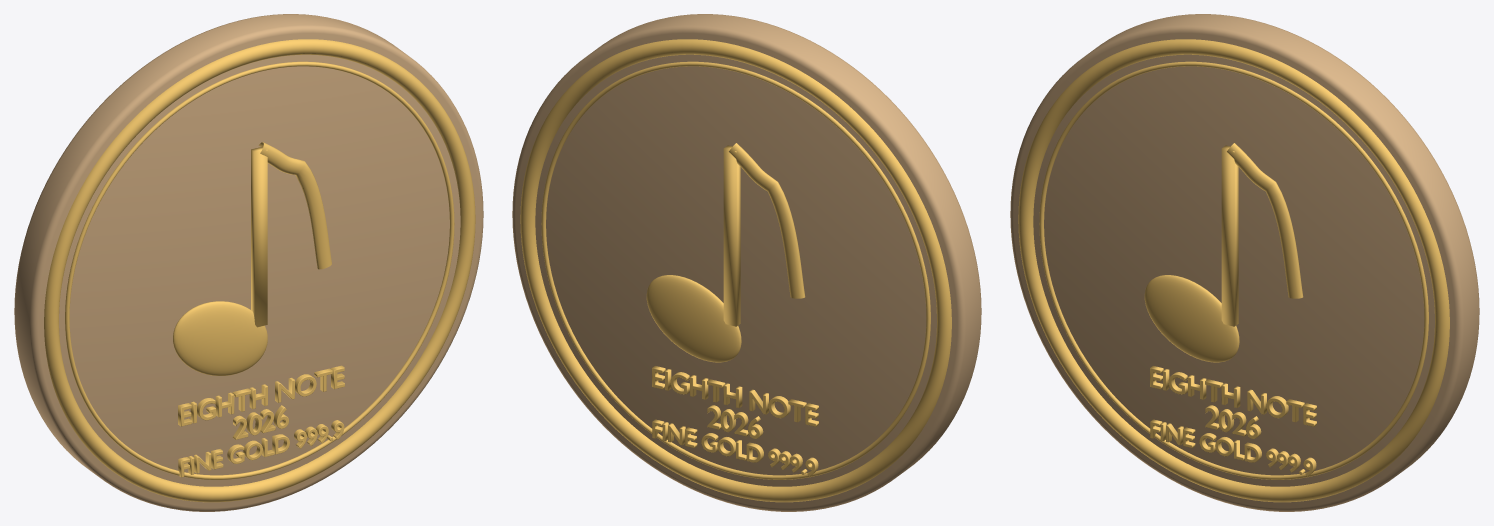
File: BronzeCoin.glb
The picture shows the model from 3 angles, left to right: view 1: azimuth 30°, elevation 25°; view 2: azimuth 150°, elevation 25°; view 3: azimuth 330°, elevation 25°; orthographic projection.
Parts seen in each view (by area): view 1: Coin_Body.002, Rim_Front.002, Note_Front.002, RimInner_Front.002, TxtEighth_F.002, TxtFine_F.002, Txt2026_F.002; view 2: Coin_Body.002, Rim_Back.002, Note_Back.002, RimInner_Back.002, TxtEighth_B.002, TxtFine_B.002, Txt2026_B.002; view 3: Coin_Body.002, Rim_Front.002, Note_Front.002, RimInner_Front.002, TxtEighth_F.002, TxtFine_F.002, Txt2026_F.002.
Part boxes in pixels (x1=…): Coin_Body.002: x1=14, y1=14, x2=483, y2=511; Rim_Front.002: x1=44, y1=39, x2=475, y2=502; Note_Front.002: x1=173, y1=142, x2=331, y2=375; RimInner_Front.002: x1=65, y1=61, x2=454, y2=479; TxtEighth_F.002: x1=178, y1=365, x2=344, y2=426; TxtFine_F.002: x1=178, y1=420, x2=344, y2=477; Txt2026_F.002: x1=232, y1=405, x2=288, y2=439; Coin_Body.002: x1=512, y1=14, x2=981, y2=511; Rim_Back.002: x1=520, y1=39, x2=951, y2=502; Note_Back.002: x1=646, y1=143, x2=805, y2=362; RimInner_Back.002: x1=541, y1=61, x2=930, y2=479; TxtEighth_B.002: x1=652, y1=366, x2=818, y2=426; TxtFine_B.002: x1=652, y1=419, x2=818, y2=476; Txt2026_B.002: x1=707, y1=405, x2=763, y2=438; Coin_Body.002: x1=1010, y1=14, x2=1479, y2=511; Rim_Front.002: x1=1018, y1=39, x2=1449, y2=502; Note_Front.002: x1=1144, y1=143, x2=1303, y2=362; RimInner_Front.002: x1=1039, y1=61, x2=1428, y2=479; TxtEighth_F.002: x1=1150, y1=366, x2=1316, y2=426; TxtFine_F.002: x1=1150, y1=419, x2=1316, y2=476; Txt2026_F.002: x1=1205, y1=405, x2=1261, y2=438.
Bounding box in the file's own units: 1 × 1 × 0.1248.
